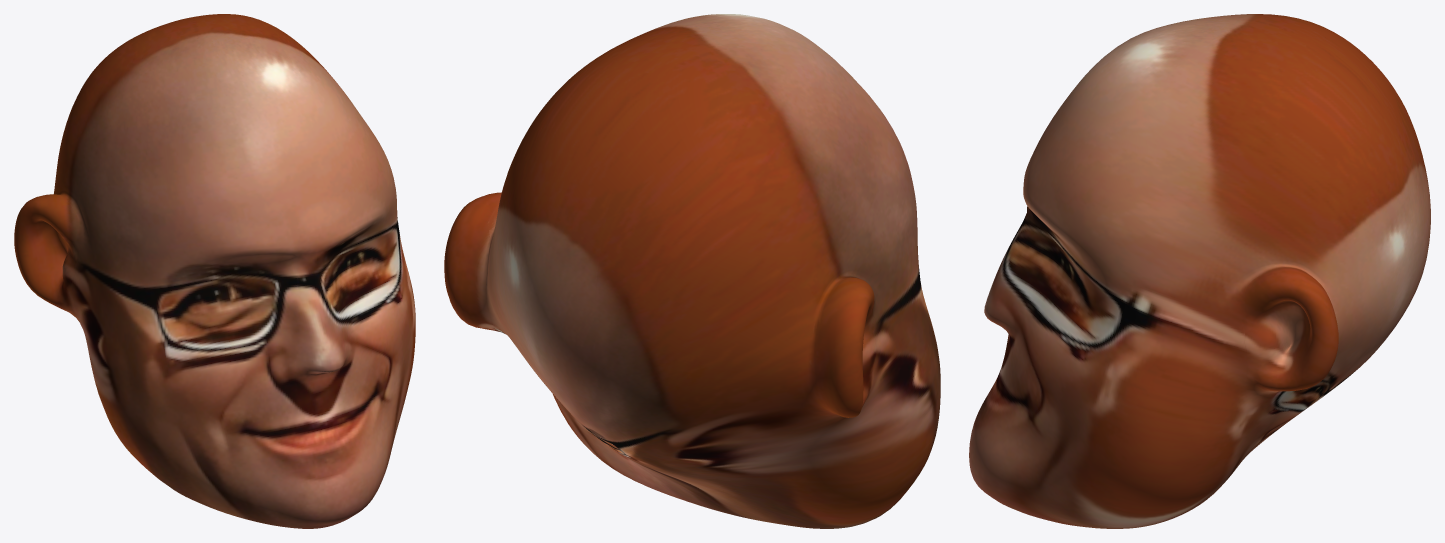
The model's file is hes.fbx.
3 renders of one model, left to right at view 1: azimuth 30°, elevation 25°; view 2: azimuth 150°, elevation 25°; view 3: azimuth 270°, elevation 25°, orthographic. The views are drawn at different scales.
Visible parts, largest first — view 1: node_id5; view 2: node_id5; view 3: node_id5.
Part boxes in pixels (x1=…): node_id5: x1=14, y1=14, x2=415, y2=528; node_id5: x1=444, y1=14, x2=940, y2=528; node_id5: x1=969, y1=14, x2=1430, y2=528.
Size of the model in its own units: 0.4227 by 0.512 by 0.4509.
1 material, 1 textured.
